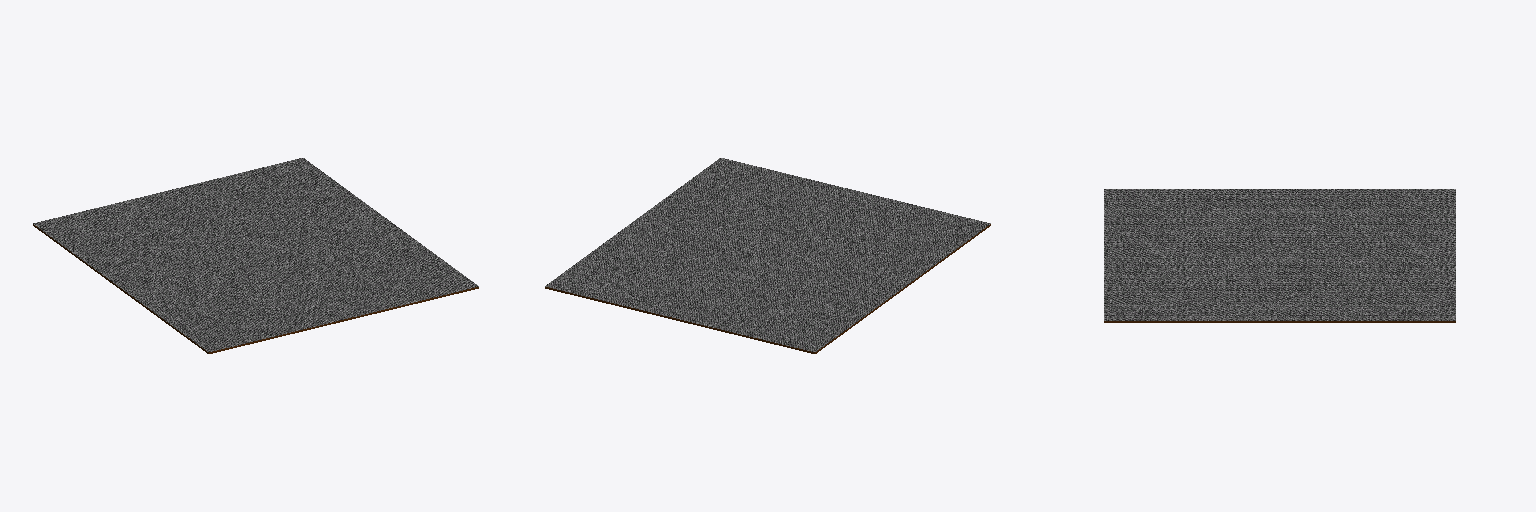
3 renders of one model, left to right at view 1: azimuth 30°, elevation 25°; view 2: azimuth 150°, elevation 25°; view 3: azimuth 270°, elevation 25°, orthographic.
Parts seen in each view (by area): view 1: Part2, Part1; view 2: Part2, Part1; view 3: Part2, Part1.
Boxes of the visible parts, box(x1,y1,x2,y2) form: Part2: box(33, 158, 478, 351); Part1: box(33, 224, 478, 353); Part2: box(545, 158, 990, 351); Part1: box(545, 224, 990, 353); Part2: box(1104, 189, 1455, 320); Part1: box(1104, 321, 1455, 322).
Size of the model in its own units: 314 by 2.07 by 354.
2 materials, 1 textured.